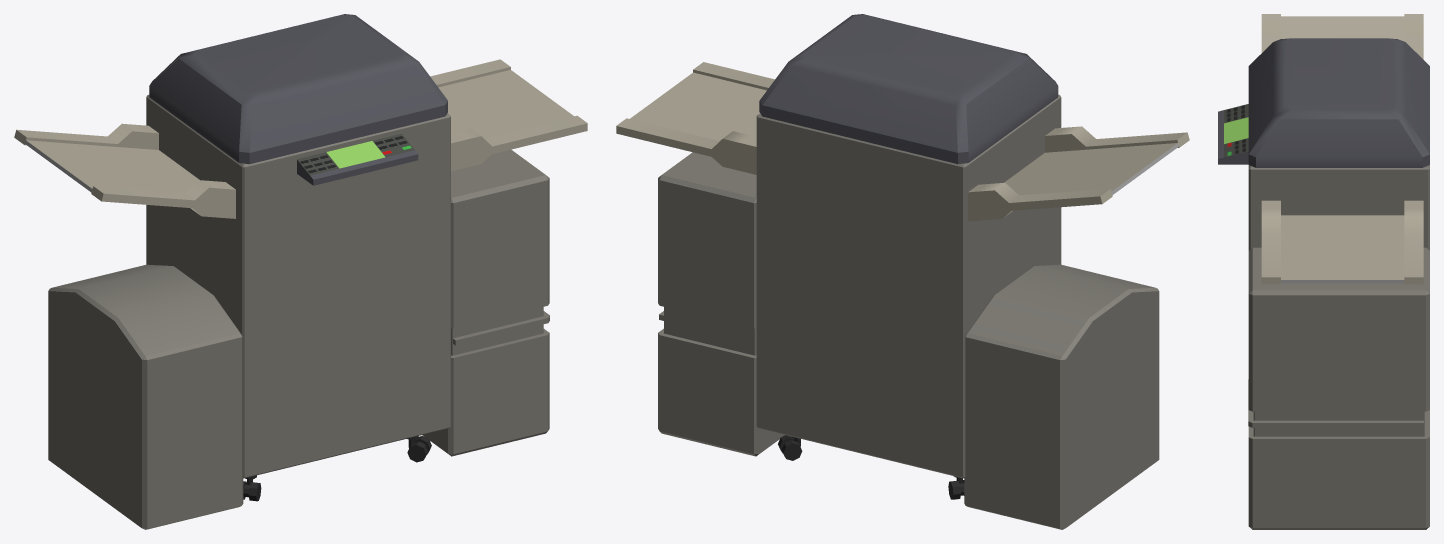
The model's file is printer.fbx.
The picture shows the model from 3 angles, left to right: view 1: azimuth 30°, elevation 25°; view 2: azimuth 150°, elevation 25°; view 3: azimuth 270°, elevation 25°; orthographic projection. The views are drawn at different scales.
Visible parts, largest first — view 1: main_obdy1, printer2, printer1, dial; view 2: main_obdy1, printer2, printer1; view 3: main_obdy1, printer1, dial.
Boxes of the visible parts, left/top/right/bottom form: main_obdy1: left=14, top=14, right=587, bottom=501; printer2: left=48, top=264, right=243, bottom=529; printer1: left=422, top=149, right=549, bottom=456; dial: left=297, top=133, right=418, bottom=185; main_obdy1: left=616, top=14, right=1189, bottom=499; printer2: left=964, top=264, right=1159, bottom=529; printer1: left=658, top=152, right=784, bottom=456; main_obdy1: left=1248, top=14, right=1429, bottom=284; printer1: left=1248, top=247, right=1429, bottom=529; dial: left=1218, top=104, right=1248, bottom=164.
Size of the model in its own units: 141 by 109 by 57.45.
